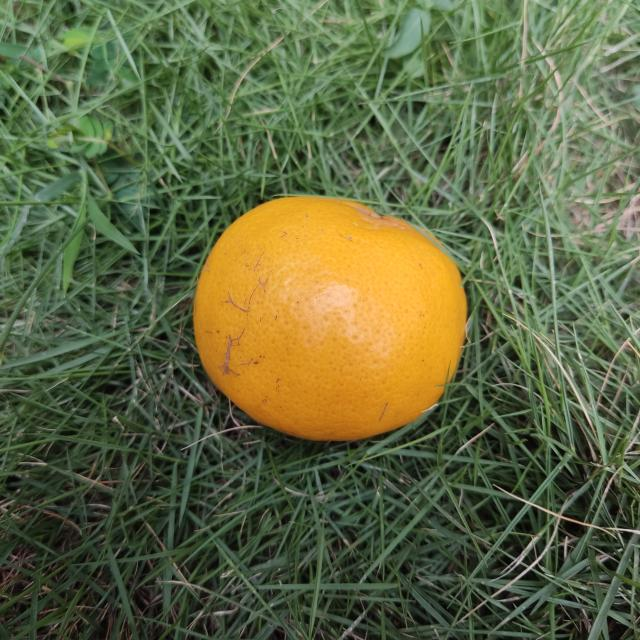orange: (194, 189, 466, 445)
